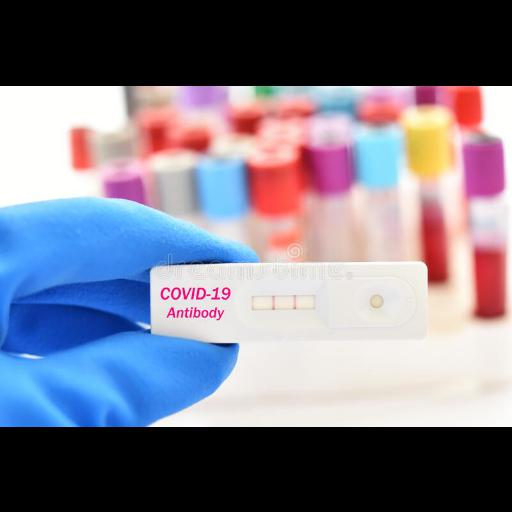Pos: (151, 266, 427, 336)
